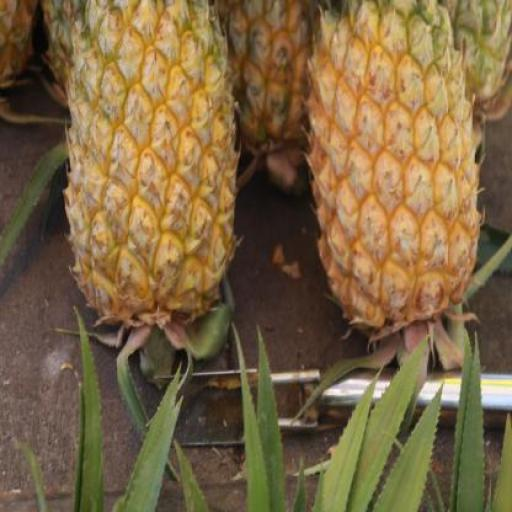Pineapple - v8 v1: (304, 0, 478, 340), (65, 0, 238, 327)
